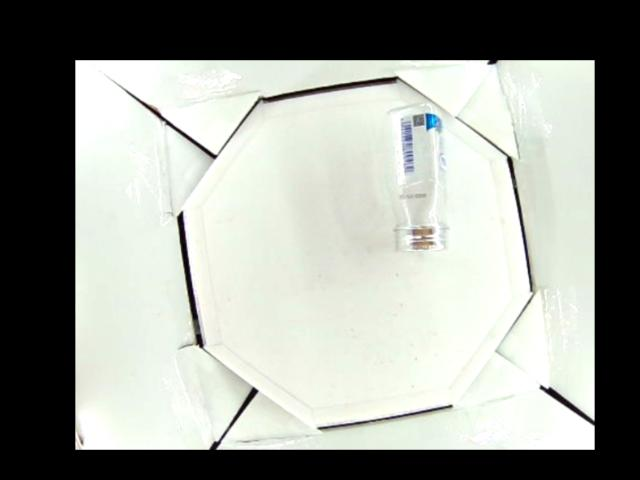Bottle: (386, 104, 449, 254)
